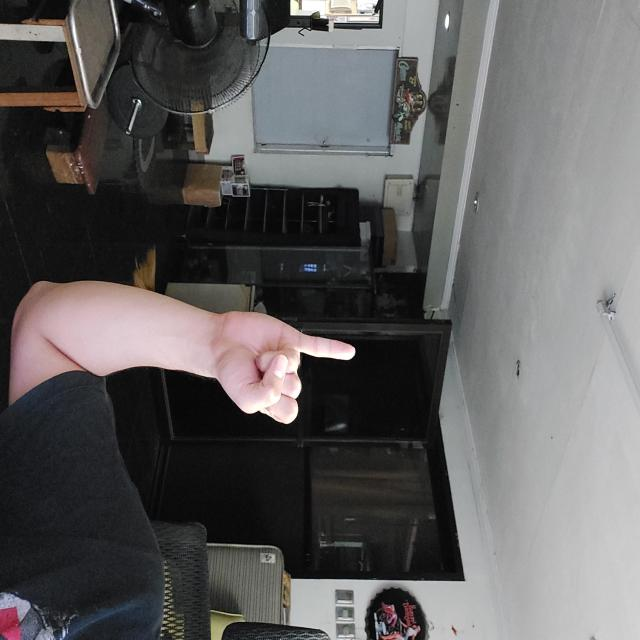I: (310, 284, 425, 426)
